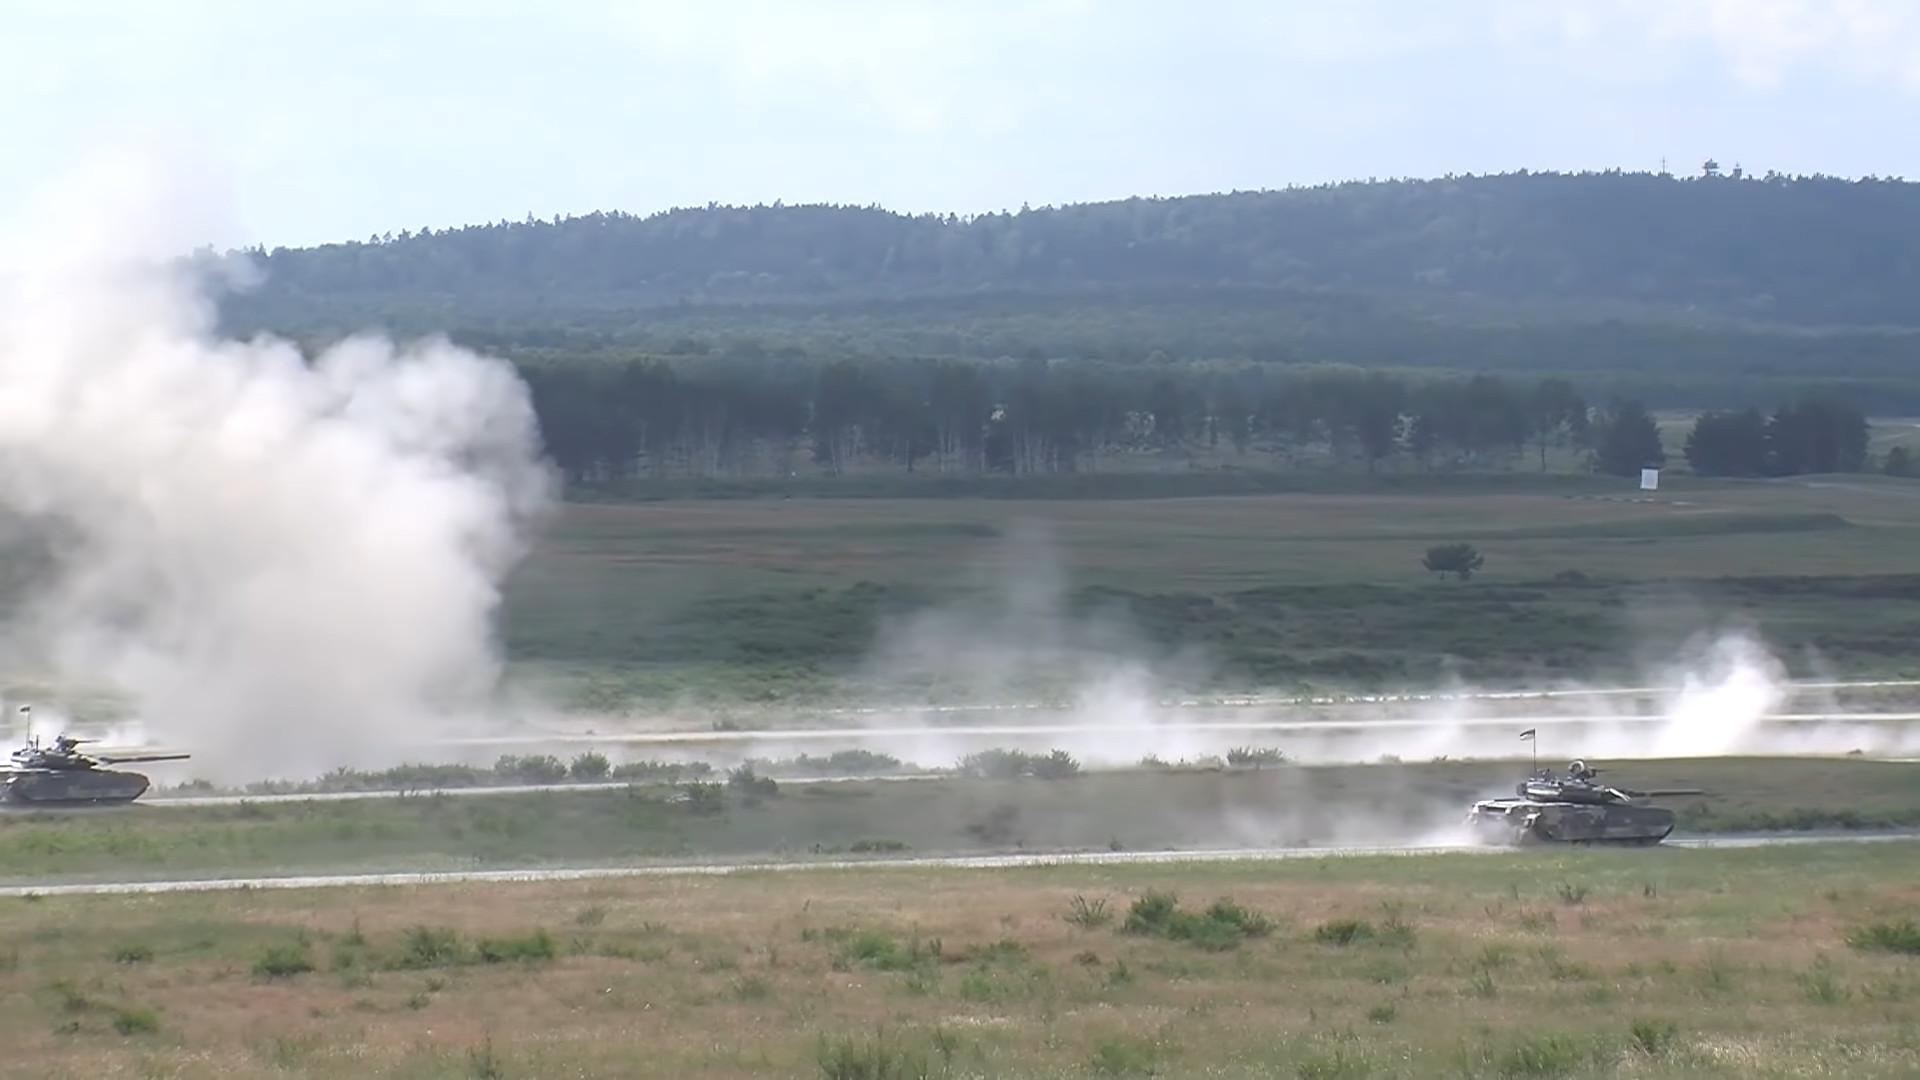tank: (1469, 757, 1701, 844), (1, 749, 191, 807)
